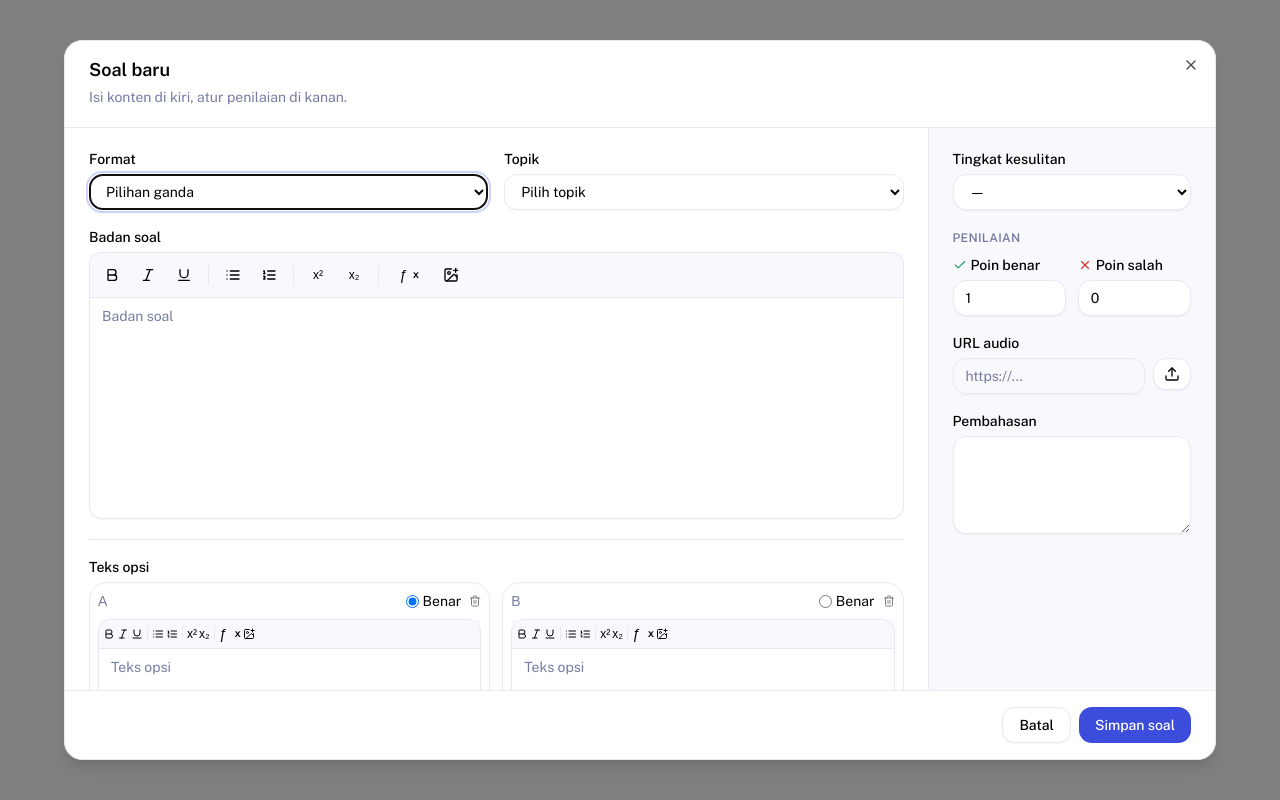
Scenario: QuestionEditor › switching format to short shows correct_answer input and hides option editor
Select "Jawaban singkat" in the dropdown labelled "Format": (289, 192) [89,174,488,210]
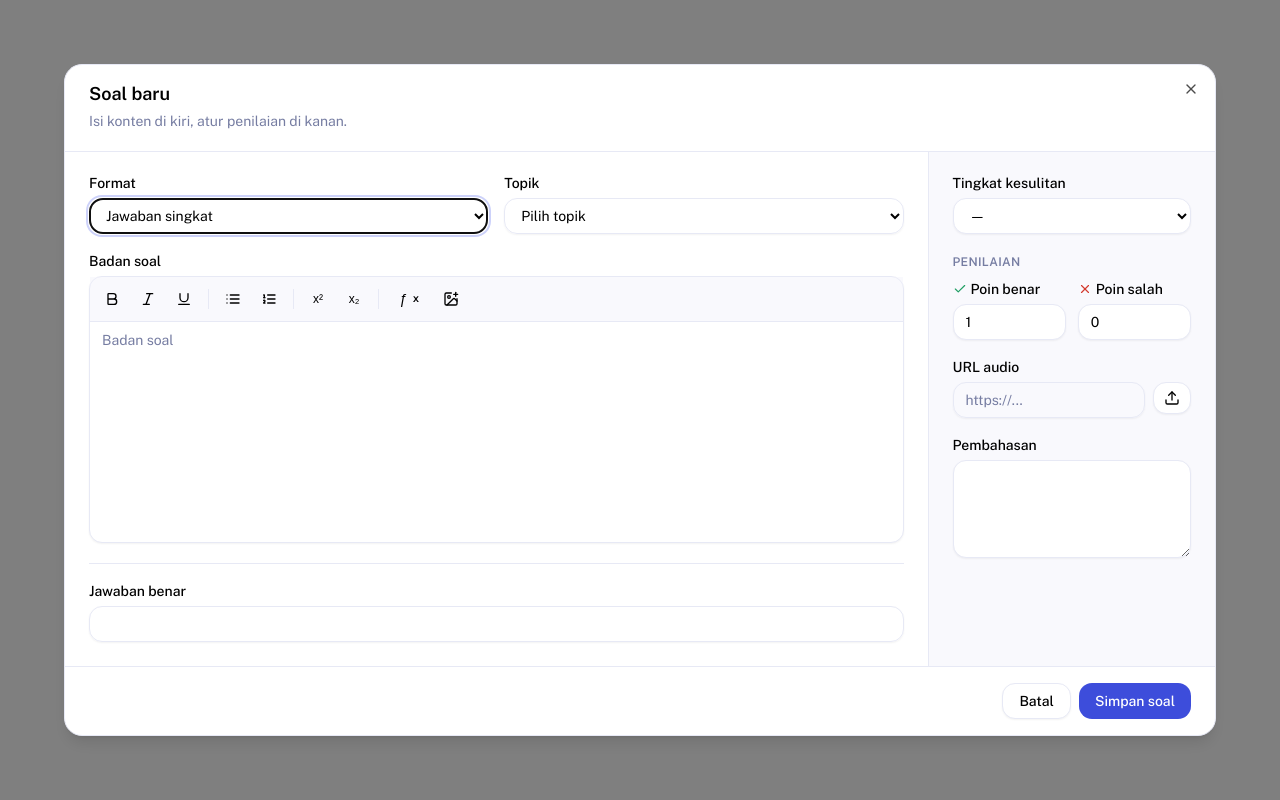
Expected: no radio buttons are shown
